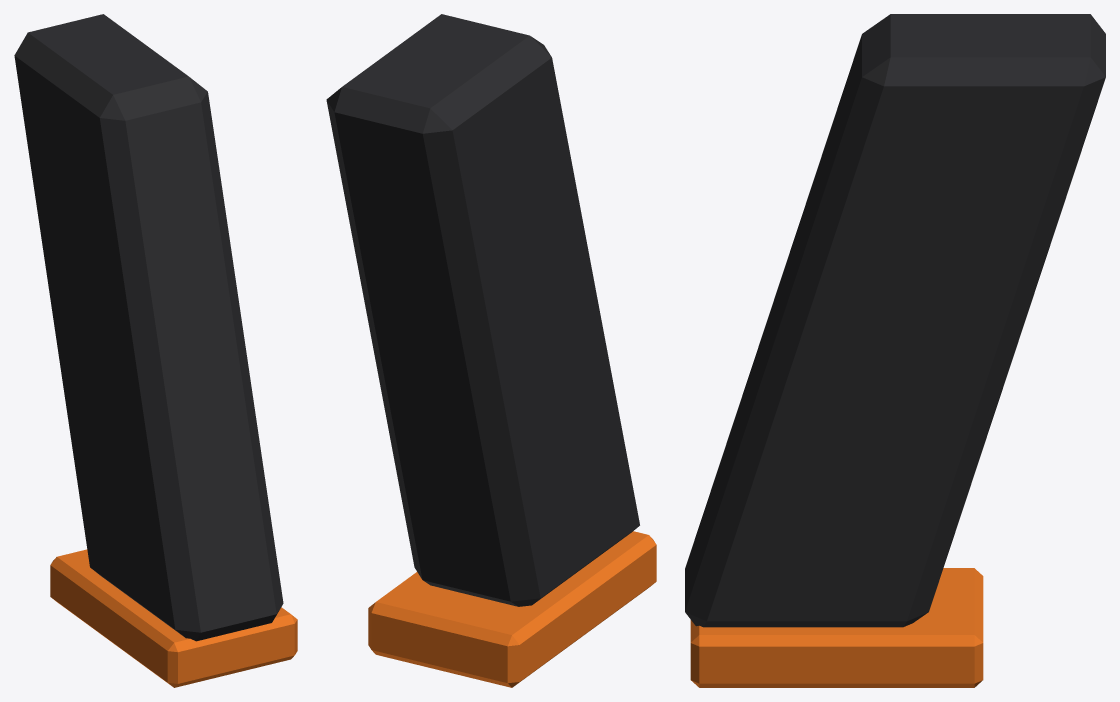
File: pistol_magazine.glb
3 views of the same model, side by side, from view 1: azimuth 30°, elevation 25°; view 2: azimuth 150°, elevation 25°; view 3: azimuth 270°, elevation 25° (orthographic). The views are drawn at different scales.
Parts seen in each view (by area): view 1: pistol_magazine; view 2: pistol_magazine; view 3: pistol_magazine.
Part boxes in pixels (left/top/right/bottom): pistol_magazine: left=14, top=14, right=297, bottom=687; pistol_magazine: left=326, top=14, right=656, bottom=687; pistol_magazine: left=685, top=14, right=1105, bottom=687.
Size of the model in its own units: 0.0352 by 0.137 by 0.0845.
